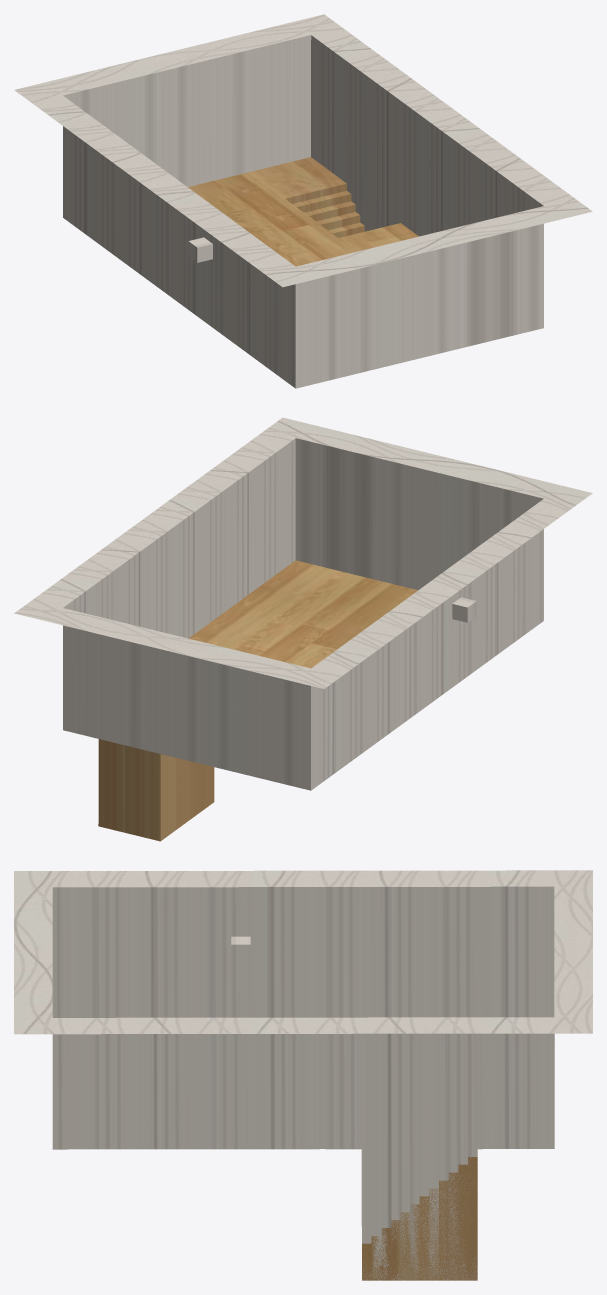
File: level2_map 2.FBX
3 renders of one model, top to bottom at view 1: azimuth 30°, elevation 25°; view 2: azimuth 150°, elevation 25°; view 3: azimuth 270°, elevation 25°, orthographic. The views are drawn at different scales.
Parts seen in each view (by area): view 1: Plane001; view 2: Plane001; view 3: Plane001.
Part boxes in pixels (left/top/right/bottom): Plane001: left=14, top=14, right=592, bottom=388; Plane001: left=14, top=417, right=592, bottom=841; Plane001: left=14, top=870, right=592, bottom=1280.
Size of the model in its own units: 102 by 76.5 by 152.
